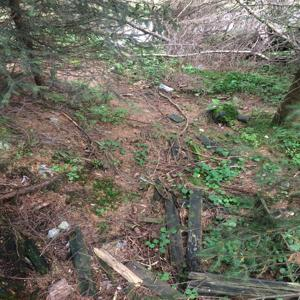plastic: (32, 164, 71, 189)
plastic bottle: (46, 217, 72, 240), (159, 79, 174, 97)
